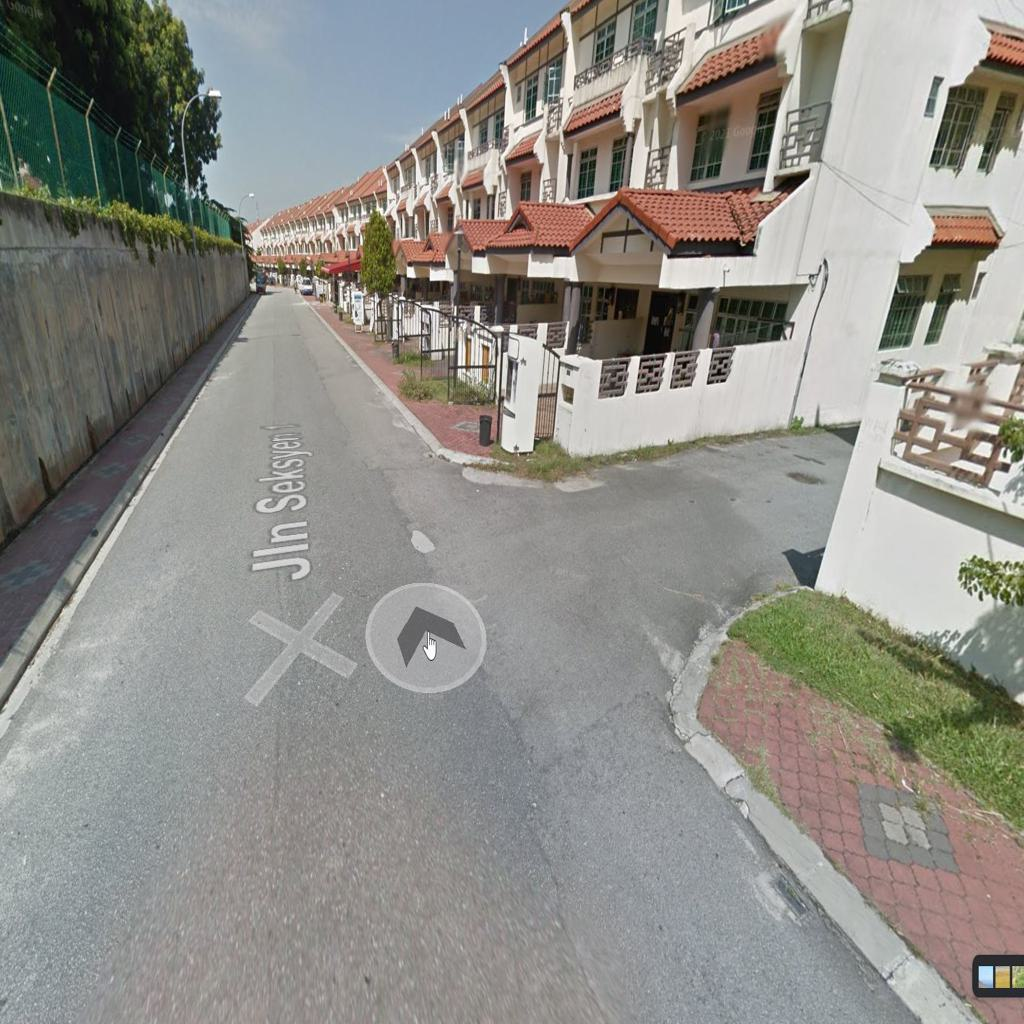Junction: (450, 418, 818, 687)
